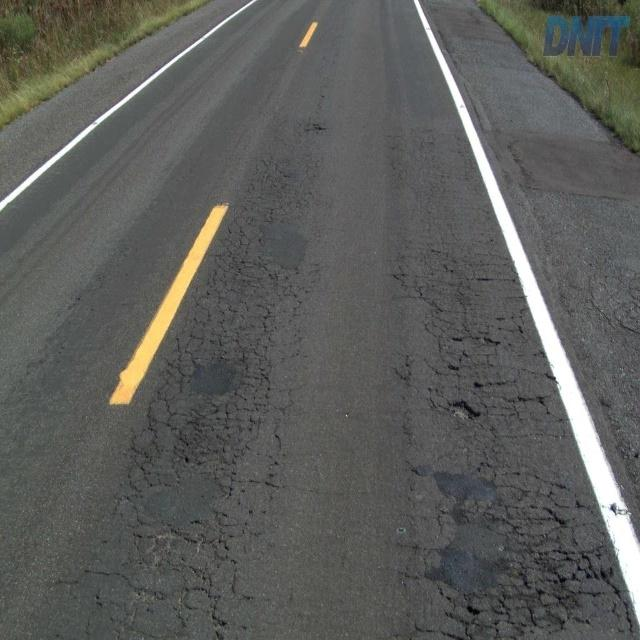pothole: (451, 469, 611, 640), (165, 361, 256, 573), (434, 315, 535, 429), (242, 180, 303, 335)
